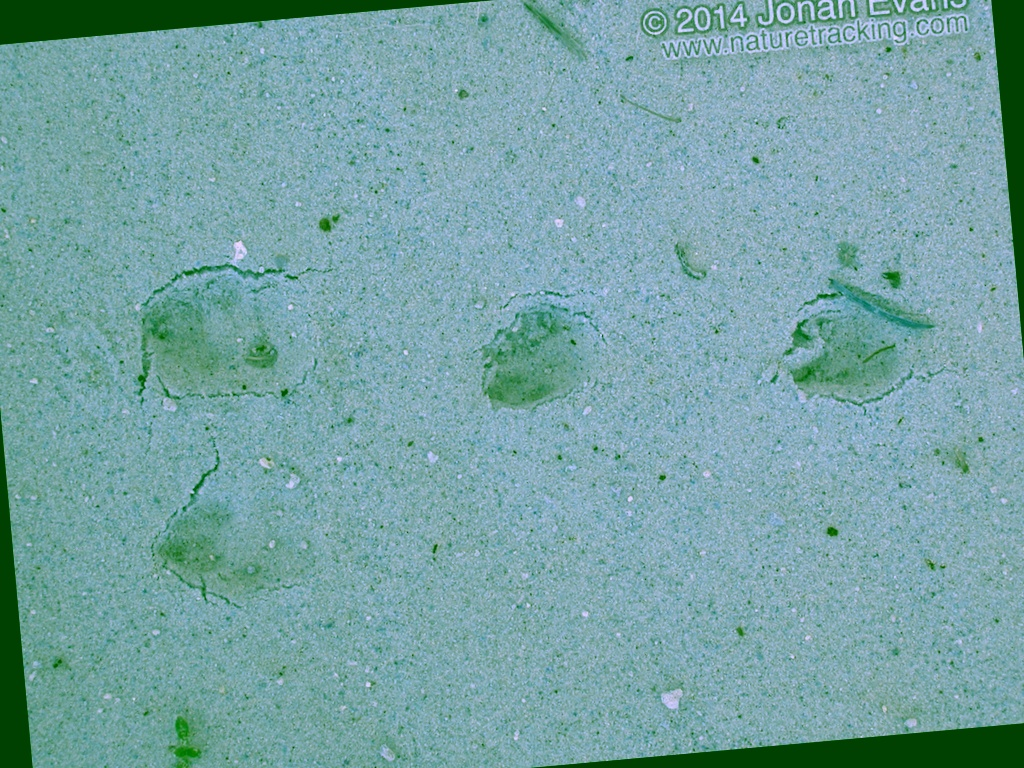lapin: (751, 228, 957, 435), (124, 253, 313, 399), (131, 469, 298, 627), (451, 277, 624, 426)
